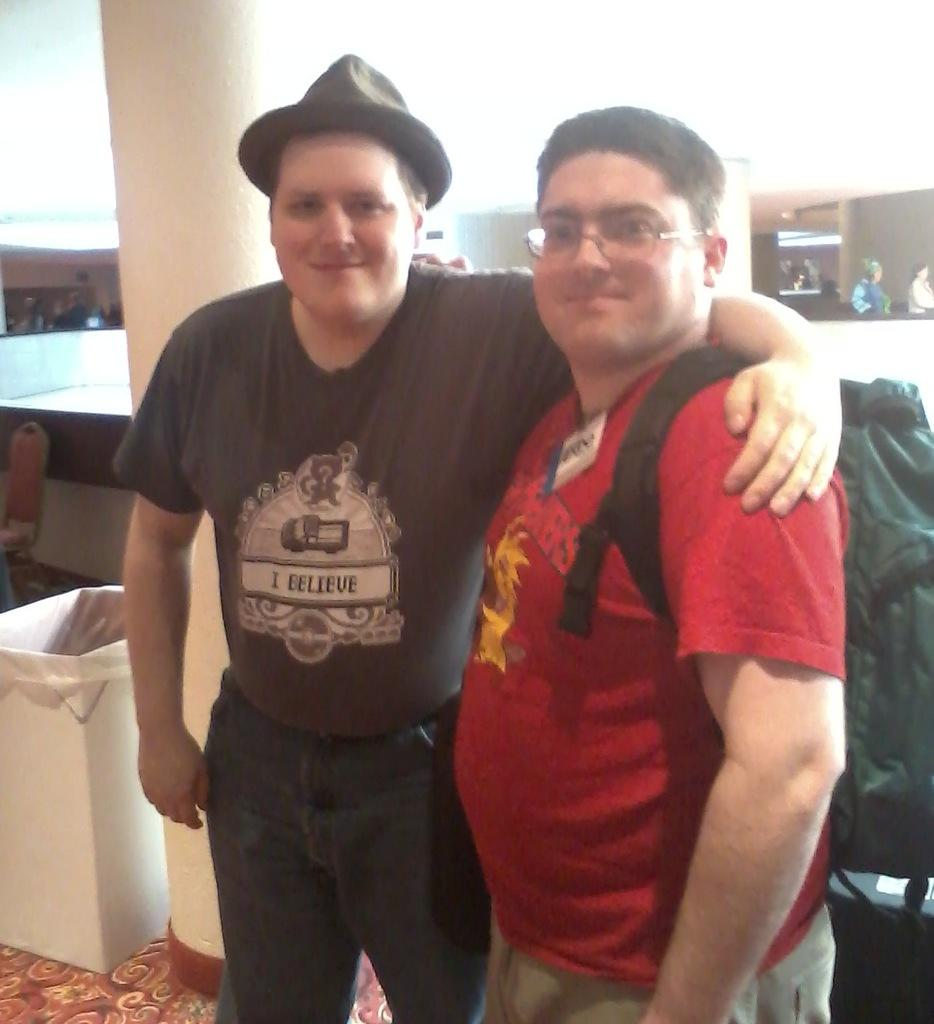Hat: (236, 46, 458, 210)
